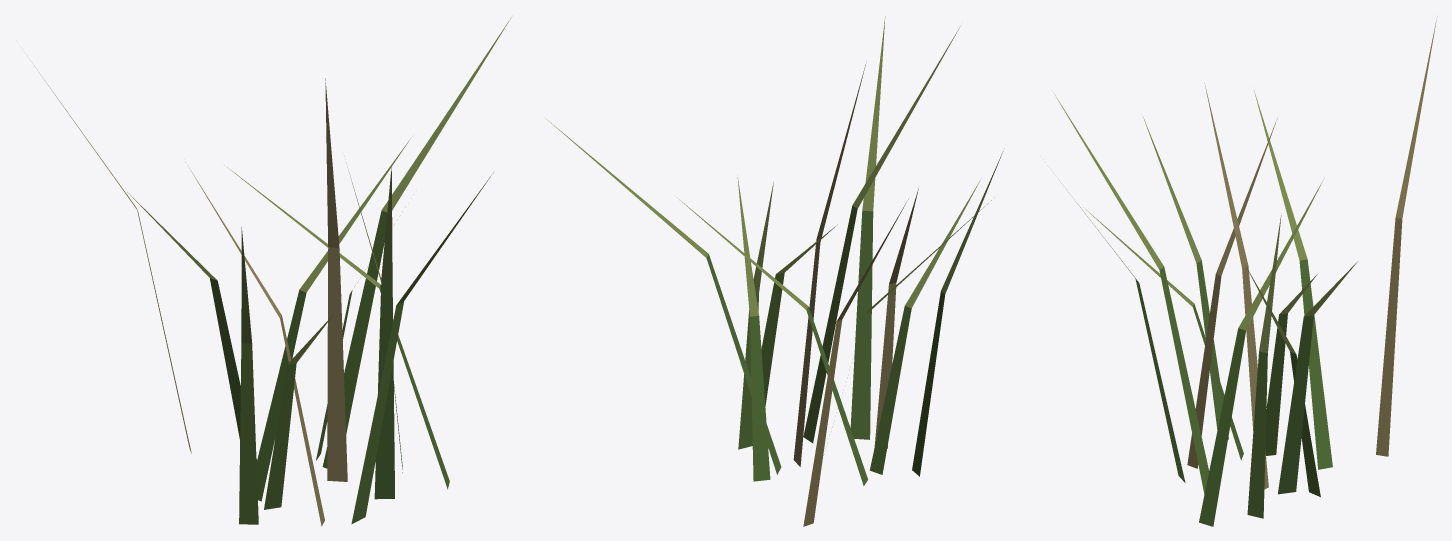
The model's file is Water Plant - Reeds-BX8Fvlpo.glb.
The picture shows the model from 3 angles, left to right: view 1: azimuth 30°, elevation 25°; view 2: azimuth 150°, elevation 25°; view 3: azimuth 270°, elevation 25°; orthographic projection. The views are drawn at different scales.
Parts seen in each view (by area): view 1: body; view 2: body; view 3: body.
Boxes of the visible parts, x1,y1,x2,y2 form: body: (29, 17, 511, 526); body: (546, 16, 1004, 526); body: (1054, 16, 1437, 526).
Size of the model in its own units: 1.26 by 1.16 by 1.09.
